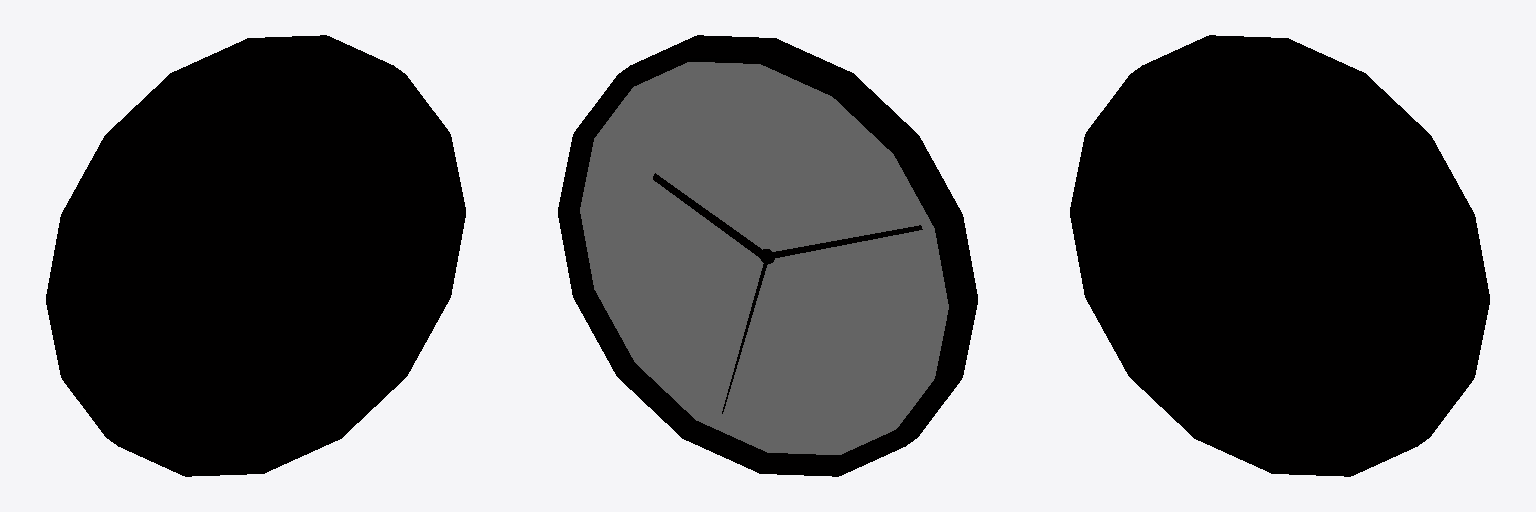
Rendered from clock.obj.
The picture shows the model from 3 angles: view 1: azimuth 30°, elevation 25°; view 2: azimuth 150°, elevation 25°; view 3: azimuth 330°, elevation 25°; orthographic projection.
Visible parts, largest first — view 1: Clock_1; view 2: Clock_1; view 3: Clock_1.
Boxes of the visible parts, x1,y1,x2,y2 form: Clock_1: [46, 35, 465, 476]; Clock_1: [558, 35, 977, 476]; Clock_1: [1070, 35, 1489, 476].
Bounding box in the file's own units: 0.5158 × 0.5158 × 0.0407.